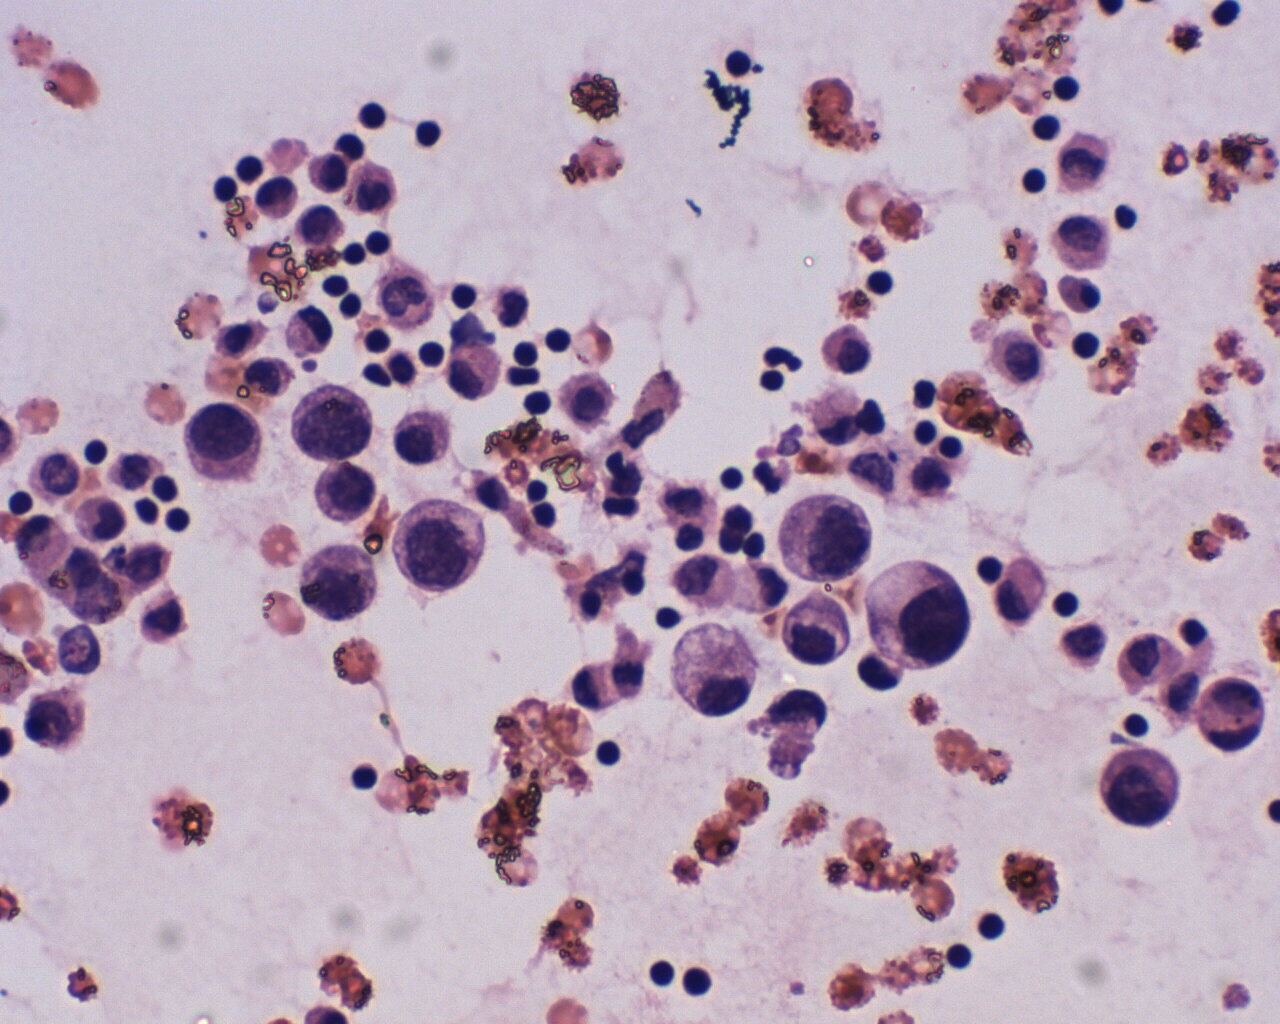ab: (866, 559, 971, 671), (387, 497, 489, 601), (777, 485, 875, 580), (1096, 741, 1186, 831), (176, 401, 267, 489), (286, 385, 375, 463), (781, 585, 856, 669), (307, 460, 378, 526)
lymph: (638, 954, 677, 992), (940, 938, 978, 974), (1031, 106, 1063, 144), (861, 270, 897, 301), (594, 734, 624, 770)
